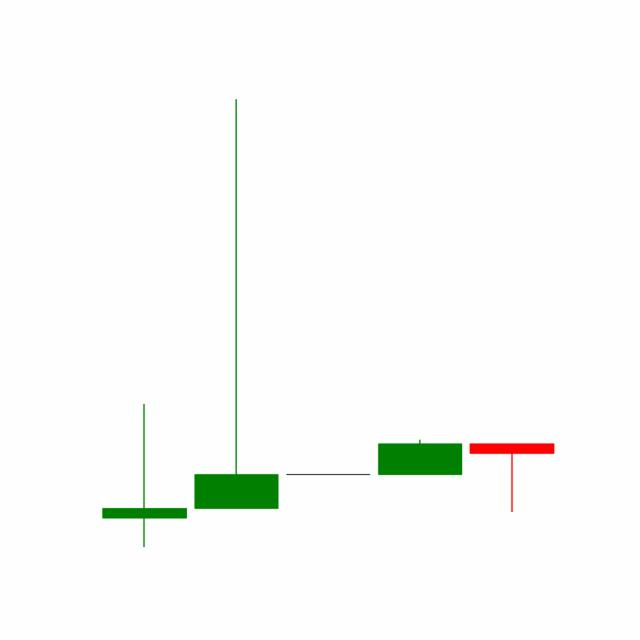Hammer: (464, 442, 558, 512)
